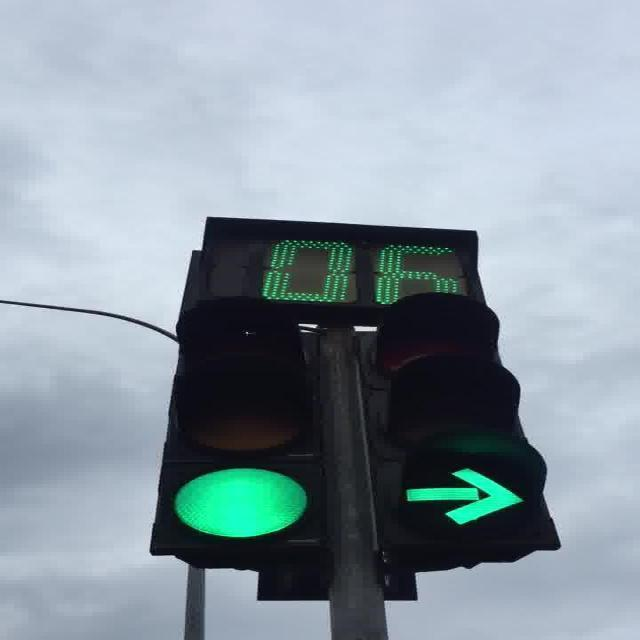green_light: (374, 295, 560, 548), (150, 298, 326, 554)
